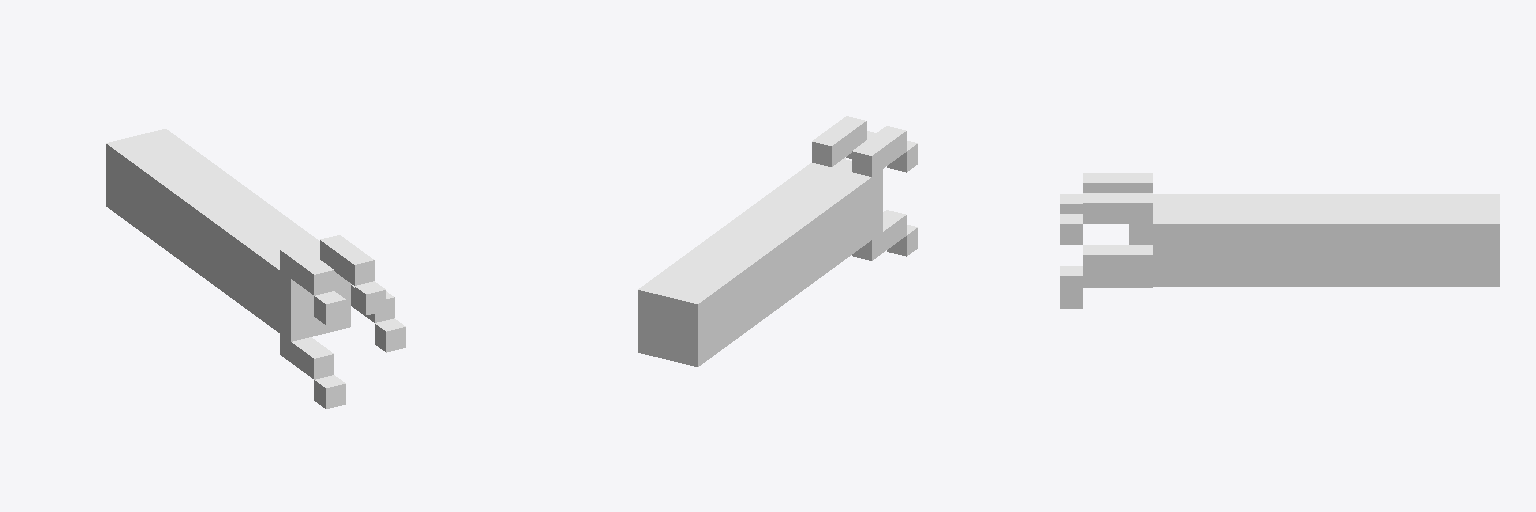
Rendered from Hand_Тварь.obj.
The picture shows the model from 3 angles: view 1: azimuth 30°, elevation 25°; view 2: azimuth 150°, elevation 25°; view 3: azimuth 270°, elevation 25°; orthographic projection.
Parts seen in each view (by area): view 1: object 1; view 2: object 1; view 3: object 1.
Part boxes in pixels (x1,y1,x2,y2): object 1: (106,129,405,408); object 1: (638,116,917,366); object 1: (1060,173,1499,308).
Size of the model in its own units: 0.4 by 0.6 by 1.9.